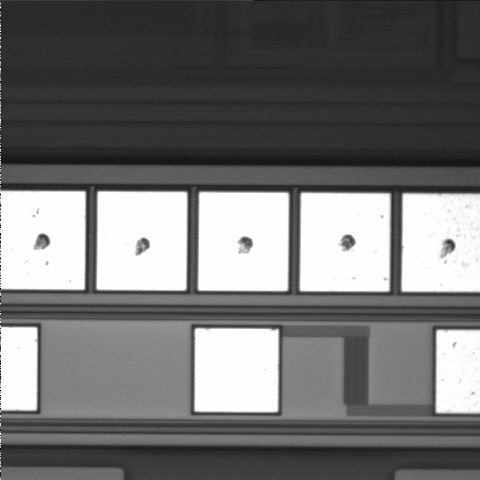pad: (198, 192, 289, 291), (97, 192, 187, 290), (300, 193, 390, 291), (195, 328, 278, 412)
